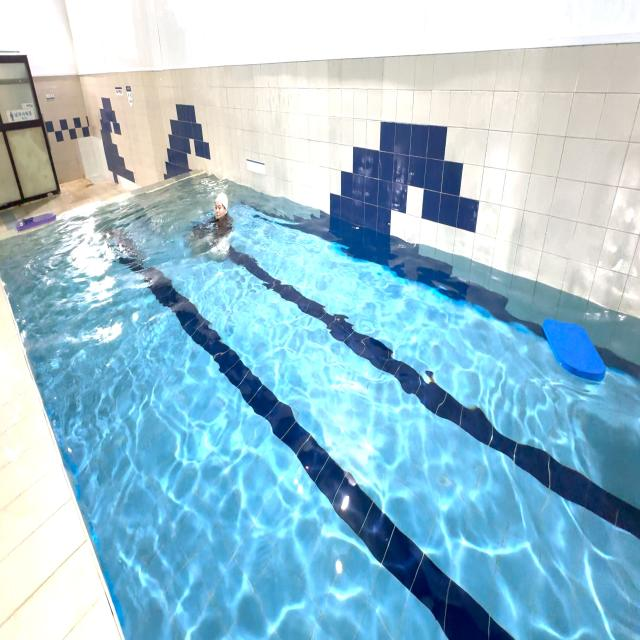Swimming: (193, 185, 242, 260)
